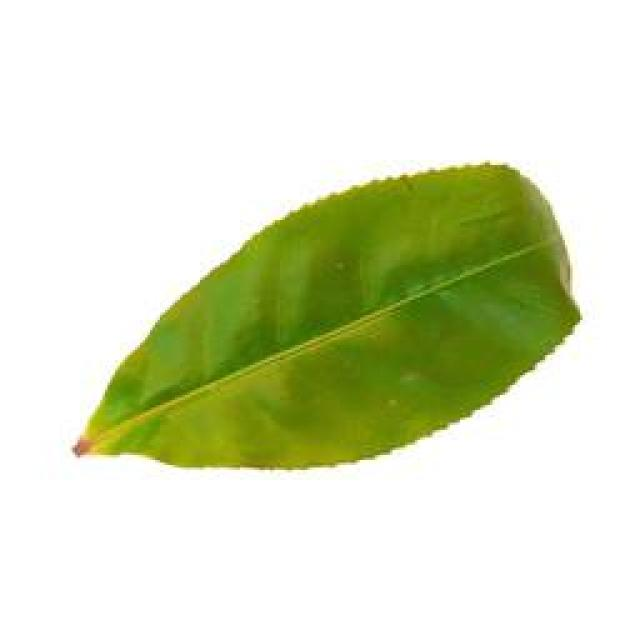Healthy: (70, 128, 612, 470)
